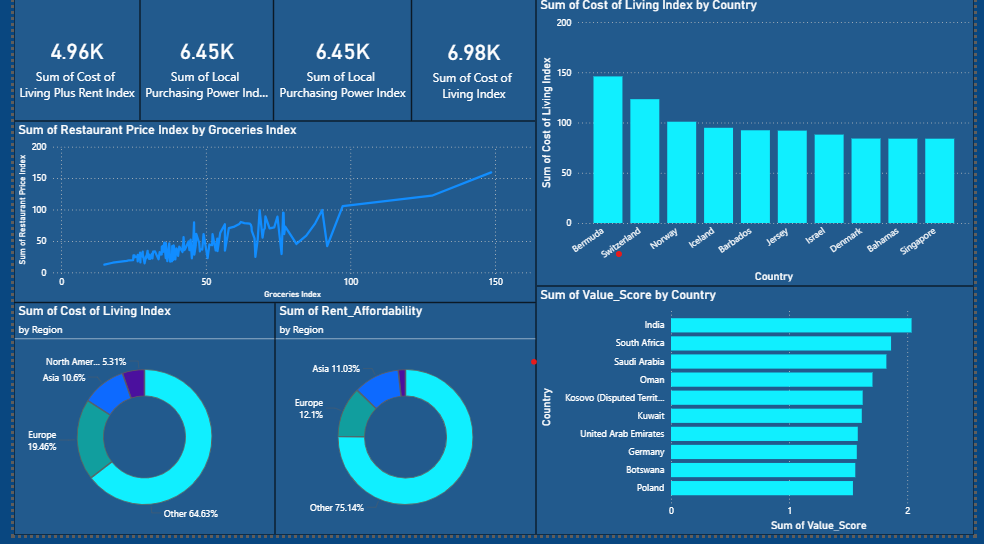

Layout of this report page (visuals, bound fields, positions):
{"tool":"powerbi","page":{"name":"Page 1","canvas":[1280,720],"ordinal":0},"visuals":[{"type":"columnChart","fields":{"Category":["Cost_of_Living_Index_2022.Country"],"Y":["Sum(Cost_of_Living_Index_2022.Cost of Living Index)"]},"box":[696,2,584,386],"z":0},{"type":"donutChart","fields":{"Category":["cleaned_data.Region"],"Y":["Sum(cleaned_data.Cost of Living Index)"]},"box":[0,410,348,310],"z":1000},{"type":"clusteredBarChart","fields":{"Category":["cleaned_data.Country"],"Y":["Sum(cleaned_data.Value_Score)"]},"box":[696,388,584,332],"z":2000},{"type":"lineChart","fields":{"Category":["cleaned_data.Groceries Index"],"Y":["Sum(cleaned_data.Restaurant Price Index)"]},"box":[0,168,696,242],"z":3000},{"type":"card","fields":{"Values":["Sum(cleaned_data.Cost of Living Index)"]},"box":[530,2,166,166],"z":4000},{"type":"card","fields":{"Values":["Sum(cleaned_data.Cost of Living Plus Rent Index)"]},"box":[0,0,168,168],"z":4001},{"type":"card","fields":{"Values":["Sum(cleaned_data.Local Purchasing Power Index)"]},"box":[168,0,178,168],"z":4002},{"type":"card","fields":{"Values":["Sum(cleaned_data.Local Purchasing Power Index)"]},"box":[346,0,184,168],"z":4003},{"type":"donutChart","fields":{"Category":["cleaned_data.Region"],"Y":["Sum(cleaned_data.Rent_Affordability)"]},"box":[348,410,348,310],"z":4004}]}

Visuals, with their boxes in screenshot pixels (x1, y1, x2, y2), scaled from the page's 1280x720 canvas onto the 984x544 screenshot:
columnChart - Cost_of_Living_Index_2022.Country x Sum(Cost_of_Living_Index_2022.Cost of Living Index): 535/2/983/293
donutChart - cleaned_data.Region x Sum(cleaned_data.Cost of Living Index): 0/310/268/543
clusteredBarChart - cleaned_data.Country x Sum(cleaned_data.Value_Score): 535/293/983/543
lineChart - cleaned_data.Groceries Index x Sum(cleaned_data.Restaurant Price Index): 0/127/535/310
card - Sum(cleaned_data.Cost of Living Index): 407/2/535/127
card - Sum(cleaned_data.Cost of Living Plus Rent Index): 0/0/129/127
card - Sum(cleaned_data.Local Purchasing Power Index): 129/0/266/127
card - Sum(cleaned_data.Local Purchasing Power Index): 266/0/407/127
donutChart - cleaned_data.Region x Sum(cleaned_data.Rent_Affordability): 268/310/535/543
